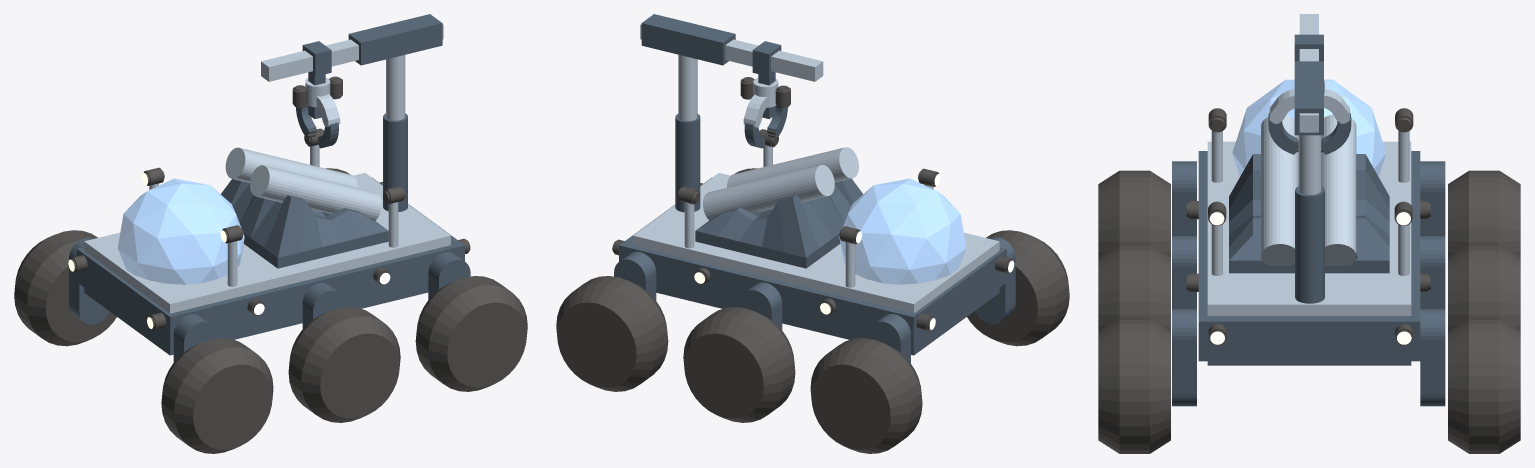
File: SEV_003.glb
3 renders of one model, left to right at view 1: azimuth 30°, elevation 25°; view 2: azimuth 150°, elevation 25°; view 3: azimuth 270°, elevation 25°, orthographic. The views are drawn at different scales.
Visible parts, largest first — view 1: Icosphere, Cylinder.003, Cylinder.004, Cylinder.002, Icosphere.002, Icosphere.003, Icosphere.001, Cylinder.005, Cylinder.011, Cylinder.001, Cylinder.019, Cylinder.012 (+5 smaller); view 2: Icosphere, Cylinder.007, Cylinder.006, Cylinder.005, Icosphere.002, Icosphere.003, Icosphere.001, Cylinder.002, Cylinder.011, Cylinder.012, Cylinder.019, Cylinder.001 (+5 smaller); view 3: Icosphere, Icosphere.003, Cylinder.011, Cylinder.004, Cylinder.007, Icosphere.001, Cylinder.002, Cylinder.005, Cylinder.003, Cylinder.006, Cylinder.001, Cylinder.012 (+13 smaller).
Part boxes in pixels (left/top/right/bottom): Icosphere: left=77, top=177, right=464, bottom=355; Cylinder.003: left=288, top=307, right=400, bottom=422; Cylinder.004: left=415, top=276, right=527, bottom=391; Cylinder.002: left=161, top=338, right=273, bottom=453; Icosphere.002: left=117, top=178, right=244, bottom=284; Icosphere.003: left=84, top=173, right=450, bottom=313; Icosphere.001: left=221, top=179, right=388, bottom=268; Cylinder.005: left=14, top=230, right=116, bottom=346; Cylinder.011: left=69, top=237, right=470, bottom=362; Cylinder.001: left=250, top=165, right=381, bottom=220; Cylinder.019: left=348, top=14, right=442, bottom=65; Cylinder.012: left=225, top=147, right=357, bottom=187; Icosphere: left=619, top=177, right=1006, bottom=355; Cylinder.007: left=556, top=276, right=668, bottom=391; Cylinder.006: left=683, top=307, right=795, bottom=422; Cylinder.005: left=810, top=338, right=922, bottom=453; Icosphere.002: left=839, top=178, right=966, bottom=284; Icosphere.003: left=633, top=173, right=999, bottom=313; Icosphere.001: left=695, top=178, right=862, bottom=268; Cylinder.002: left=967, top=230, right=1069, bottom=346; Cylinder.011: left=614, top=237, right=1015, bottom=363; Cylinder.012: left=703, top=165, right=834, bottom=220; Cylinder.019: left=641, top=14, right=735, bottom=65; Cylinder.001: left=727, top=147, right=858, bottom=187; Icosphere: left=1198, top=151, right=1420, bottom=365; Icosphere.003: left=1207, top=141, right=1411, bottom=315; Cylinder.011: left=1172, top=161, right=1445, bottom=406; Cylinder.004: left=1098, top=318, right=1170, bottom=453; Cylinder.007: left=1448, top=318, right=1520, bottom=453; Icosphere.001: left=1229, top=154, right=1389, bottom=273; Cylinder.002: left=1098, top=170, right=1170, bottom=257; Cylinder.005: left=1448, top=170, right=1520, bottom=257; Cylinder.003: left=1098, top=244, right=1170, bottom=331; Cylinder.006: left=1448, top=244, right=1520, bottom=331; Cylinder.001: left=1261, top=115, right=1298, bottom=265; Cylinder.012: left=1321, top=114, right=1356, bottom=265.
Bounding box in the file's own units: 11.13 × 9.14 × 9.69.
